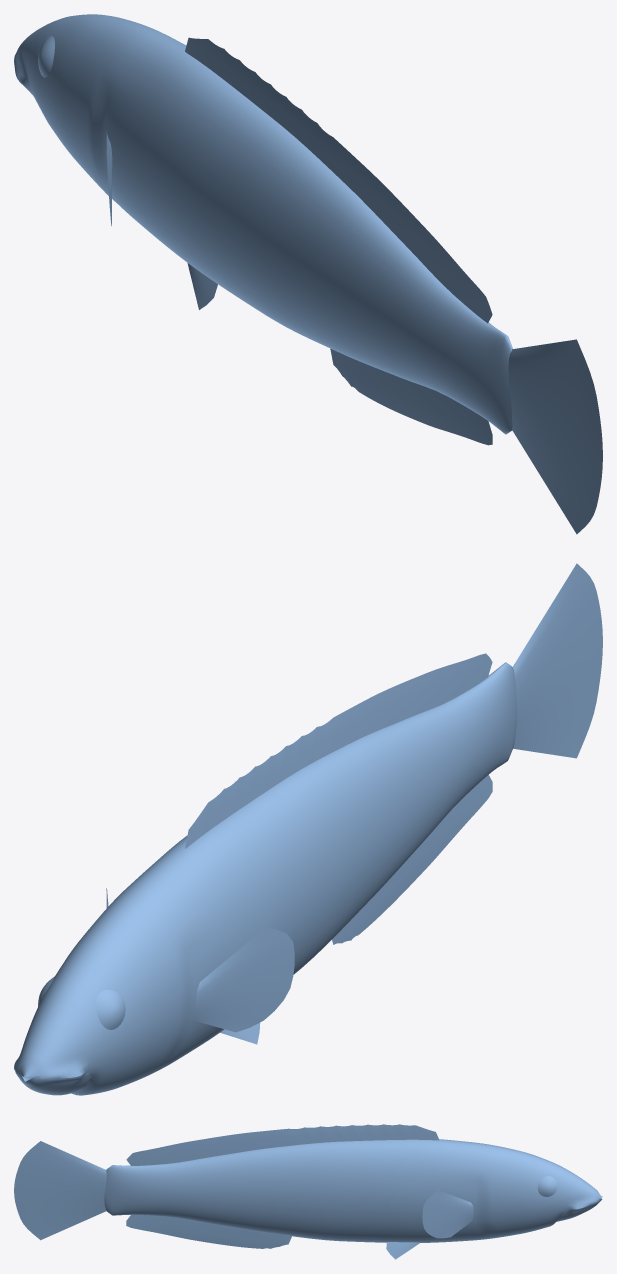
The model's file is wrasse_cleaner.glb.
The picture shows the model from 3 angles, top to bottom: view 1: azimuth 30°, elevation 25°; view 2: azimuth 150°, elevation 25°; view 3: azimuth 270°, elevation 25°; orthographic projection. The views are drawn at different scales.
Parts seen in each view (by area): view 1: wrasse_cleaner; view 2: wrasse_cleaner; view 3: wrasse_cleaner.
Part boxes in pixels (left/top/right/bottom): wrasse_cleaner: left=14, top=14, right=602, bottom=534; wrasse_cleaner: left=14, top=563, right=602, bottom=1095; wrasse_cleaner: left=14, top=1124, right=602, bottom=1259.
Bounding box in the file's own units: 0.0465 × 0.0599 × 0.2497.
